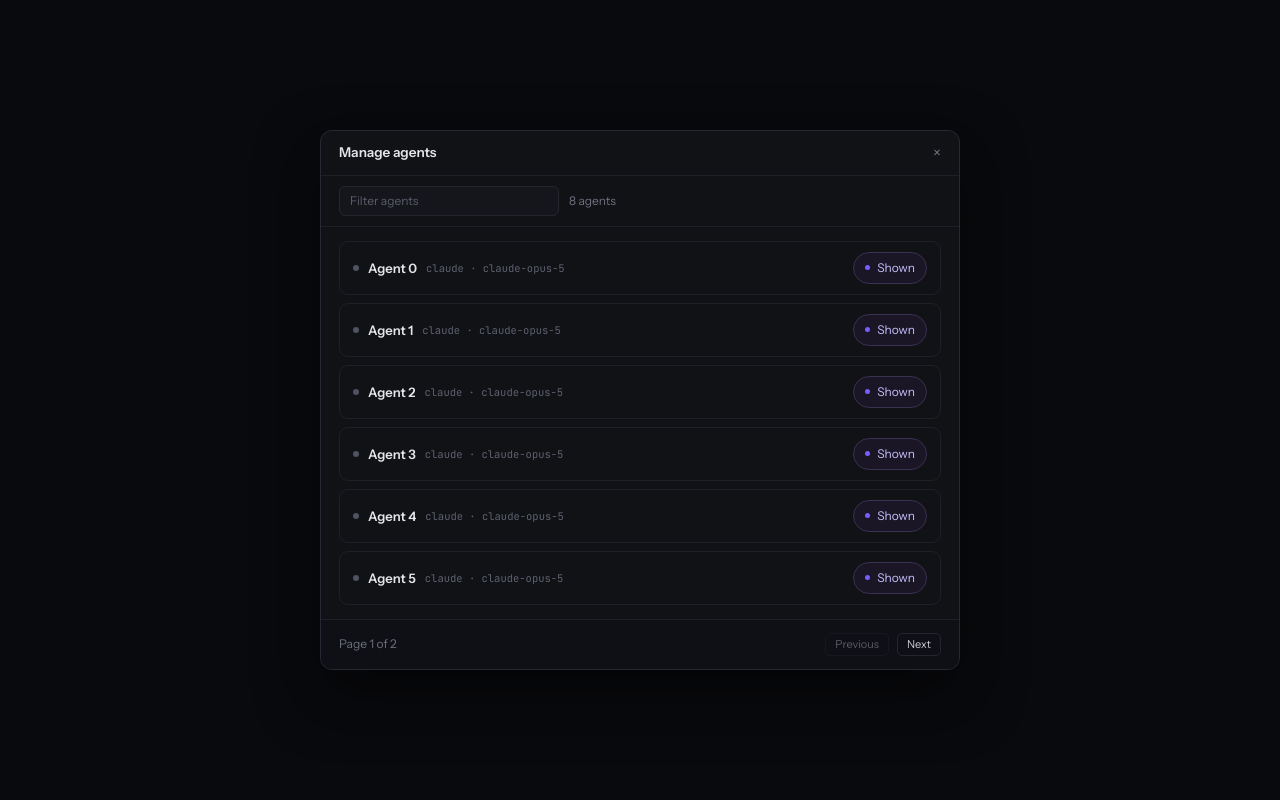
Test: ManageAgentsModal — pagination › moves through the roster a page at a time
Click the button "Next": (919, 644) top-left (897, 633), bottom-right (941, 656)
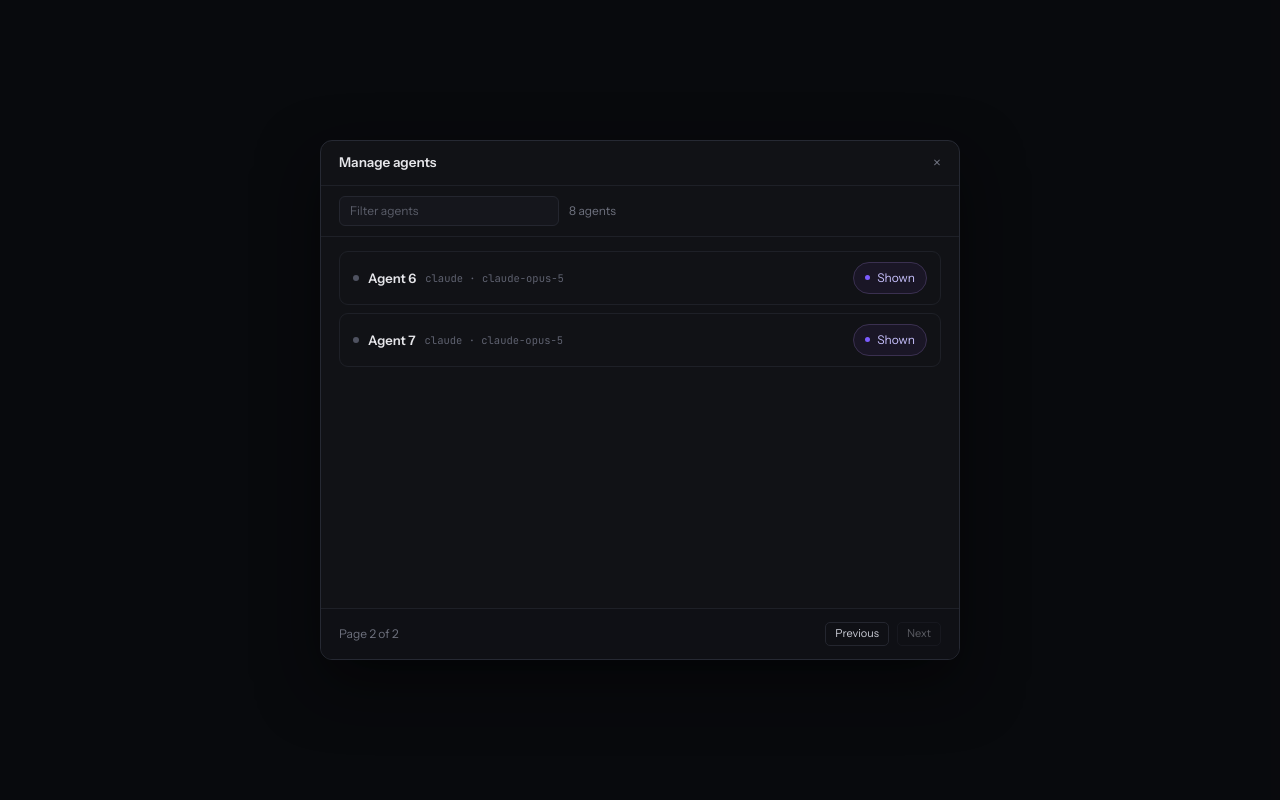
expect the text "Agent 7" is shown: met, box top-left (368, 331), bottom-right (416, 349)
expect the text "Agent 0" is gone: met
expect the text "Page 2 of 2" is shown: met, box top-left (339, 625), bottom-right (398, 643)
